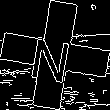N_N: (31, 27, 79, 83)
